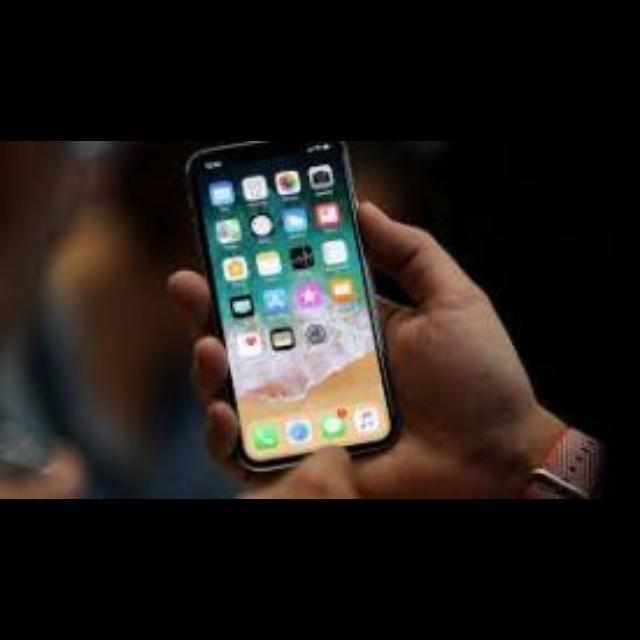phone: (168, 137, 416, 472)
